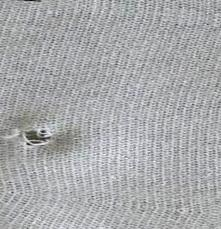hole: (17, 123, 57, 149)
